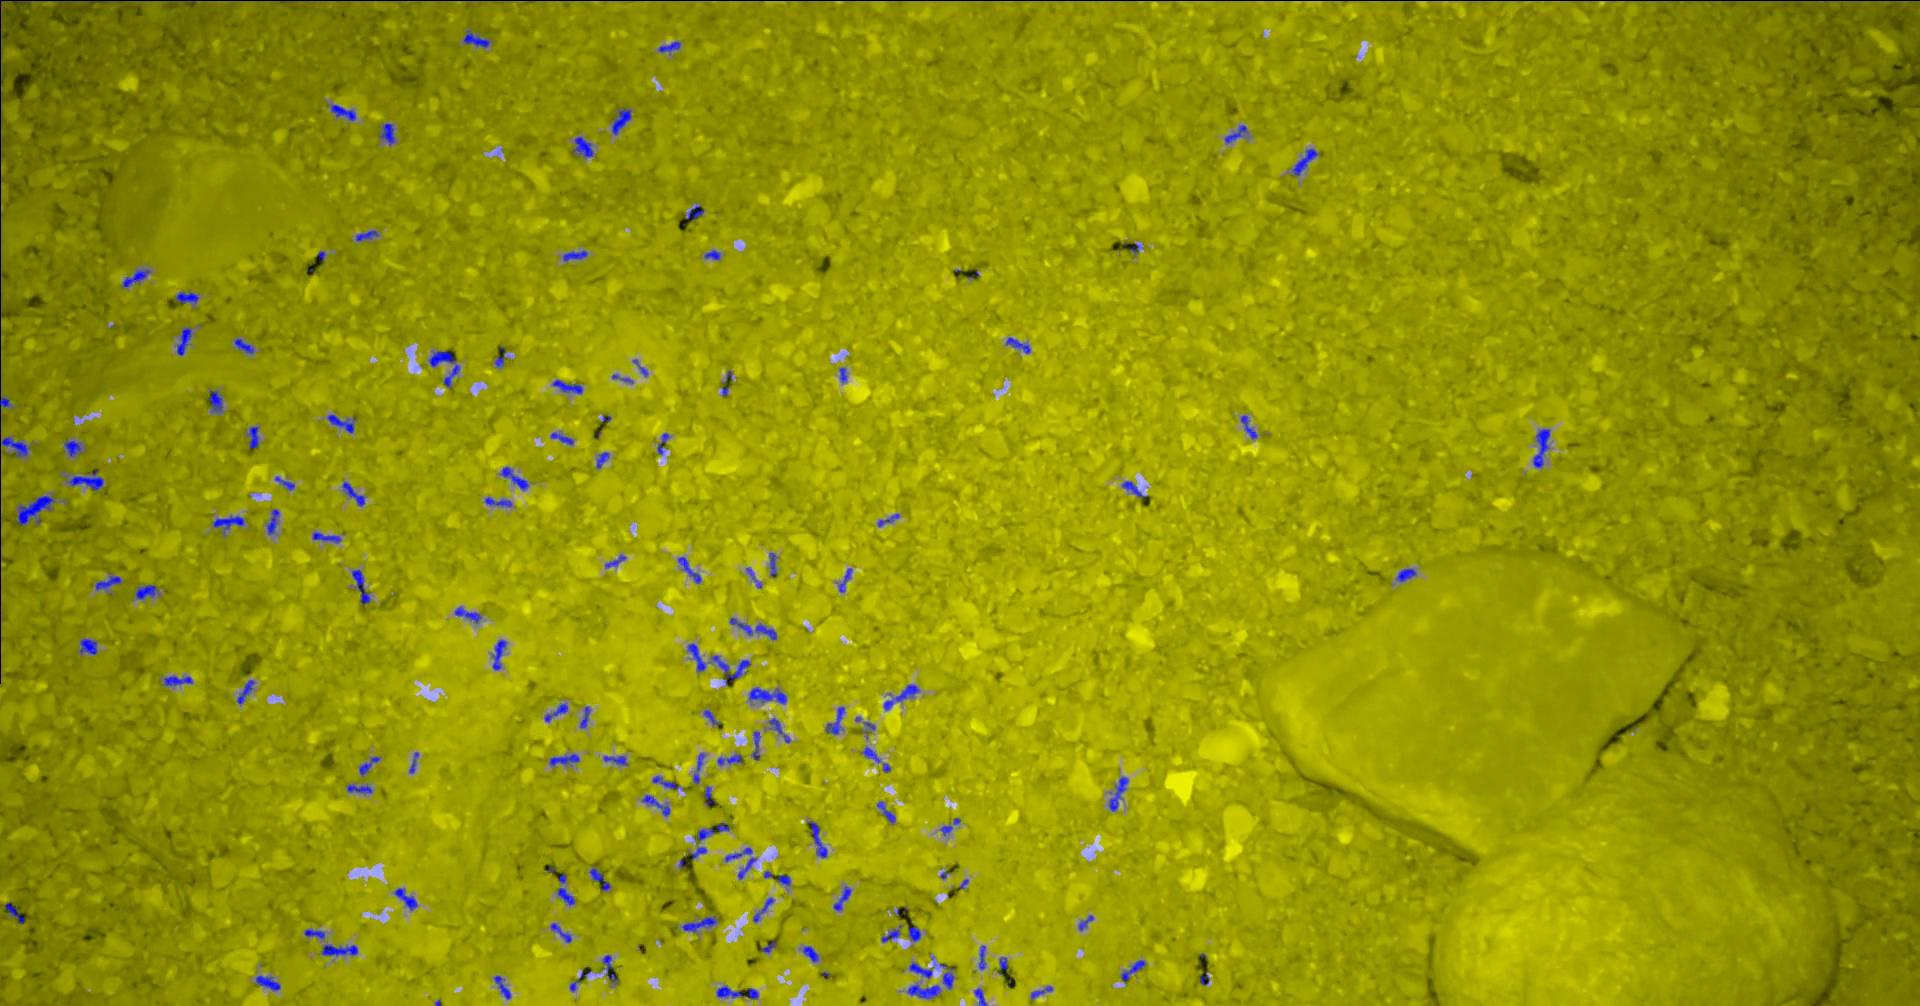ant: (1, 0, 33, 85), (712, 654, 752, 683), (430, 351, 461, 387), (18, 495, 56, 525), (731, 617, 778, 639), (726, 847, 758, 879), (885, 683, 921, 709), (69, 469, 105, 490), (809, 821, 829, 857), (1293, 147, 1319, 175), (1110, 776, 1130, 810), (353, 569, 372, 605), (502, 466, 530, 490), (1534, 428, 1550, 467), (215, 514, 246, 535), (679, 556, 702, 583), (1, 436, 30, 456), (698, 822, 731, 840), (750, 687, 789, 702), (770, 716, 792, 742), (644, 794, 670, 815), (559, 873, 577, 904), (343, 481, 366, 506), (688, 643, 707, 671), (827, 706, 846, 734), (396, 887, 419, 909), (683, 916, 717, 931), (1123, 959, 1147, 981), (754, 897, 775, 922), (613, 108, 632, 135), (123, 269, 151, 287), (329, 414, 357, 432), (590, 868, 612, 890), (323, 944, 359, 956), (574, 136, 596, 158), (5, 902, 27, 923), (493, 639, 508, 669), (329, 103, 357, 119), (909, 984, 942, 998), (552, 379, 584, 392), (465, 30, 491, 47), (456, 606, 483, 622), (1225, 124, 1248, 144), (237, 680, 257, 702), (546, 702, 569, 721), (178, 326, 193, 354), (764, 870, 792, 885), (1007, 337, 1032, 353), (571, 970, 592, 991), (361, 756, 382, 775), (604, 954, 618, 983), (834, 887, 852, 909), (1123, 481, 1148, 497), (552, 923, 573, 942), (1242, 415, 1258, 438), (910, 962, 933, 978), (495, 976, 512, 998), (97, 575, 123, 589), (654, 775, 681, 789), (879, 801, 897, 822), (883, 925, 903, 942), (381, 122, 397, 144), (257, 976, 282, 989), (717, 984, 745, 997), (137, 584, 160, 600), (695, 752, 706, 782), (551, 753, 582, 765), (839, 568, 853, 592), (210, 389, 223, 412), (314, 531, 342, 542), (705, 709, 723, 727), (65, 439, 84, 456), (276, 475, 296, 490), (177, 291, 201, 304), (268, 509, 281, 533), (486, 495, 513, 507), (606, 554, 627, 568), (1032, 984, 1054, 998), (165, 674, 194, 685), (863, 746, 881, 762), (236, 338, 255, 353), (248, 426, 260, 448), (552, 432, 575, 445), (879, 513, 902, 526), (705, 785, 717, 807), (909, 920, 922, 941), (81, 638, 98, 654), (804, 945, 820, 962), (686, 205, 705, 218), (357, 230, 380, 241), (943, 967, 955, 989), (564, 250, 589, 260), (1398, 568, 1418, 580), (660, 41, 682, 52), (659, 432, 670, 453), (604, 754, 629, 765), (348, 784, 375, 793), (719, 754, 744, 763), (754, 730, 762, 760), (770, 553, 778, 575), (977, 987, 988, 1005), (497, 345, 505, 367), (305, 929, 326, 937), (598, 451, 610, 467), (705, 249, 723, 259), (582, 706, 590, 727), (999, 956, 1010, 974), (980, 945, 987, 969), (55, 0, 132, 1)
